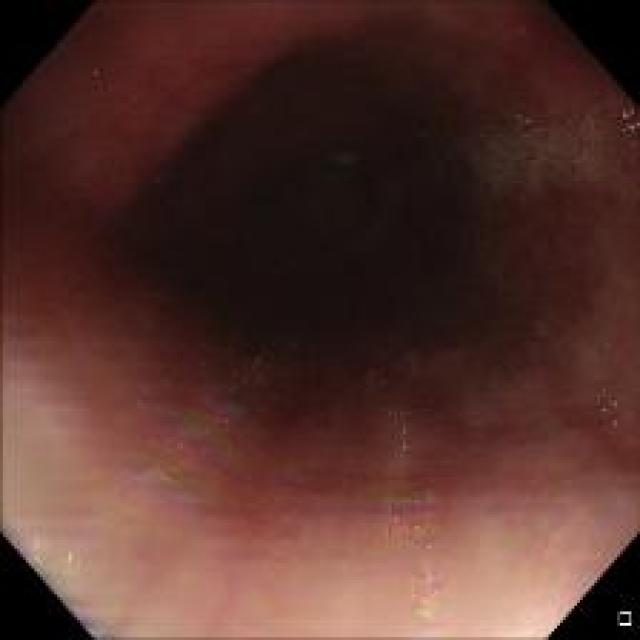bubbles: (364, 388, 454, 628), (441, 108, 634, 202)
color misalignment: (140, 364, 294, 520), (390, 491, 444, 616), (24, 528, 91, 586), (596, 385, 621, 430), (399, 410, 410, 455), (621, 108, 638, 136), (149, 169, 174, 188)
contrast: (96, 11, 584, 449)
